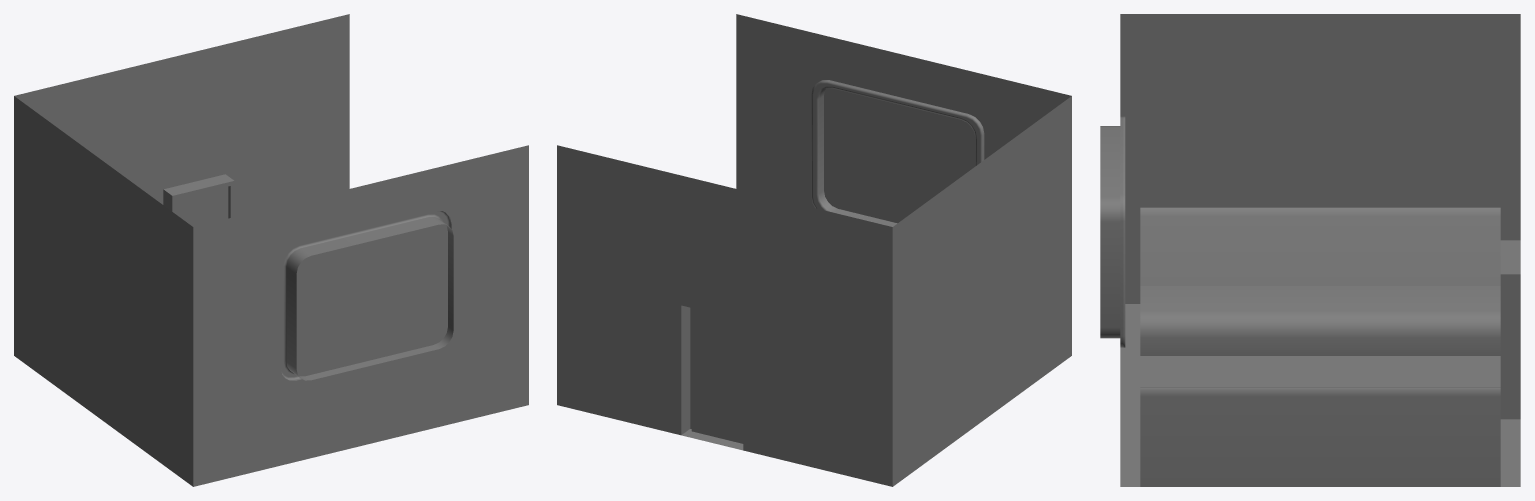
The model's file is train_room1.fbx.
The picture shows the model from 3 angles, left to right: view 1: azimuth 30°, elevation 25°; view 2: azimuth 150°, elevation 25°; view 3: azimuth 270°, elevation 25°; orthographic projection. The views are drawn at different scales.
Parts seen in each view (by area): view 1: renderMesh0; view 2: renderMesh0; view 3: renderMesh0.
Boxes of the visible parts, bbox=[...] form: renderMesh0: bbox=[14, 14, 528, 486]; renderMesh0: bbox=[557, 14, 1071, 486]; renderMesh0: bbox=[1100, 14, 1520, 486].
Size of the model in its own units: 173 by 128 by 168.
1 material, 1 textured.
